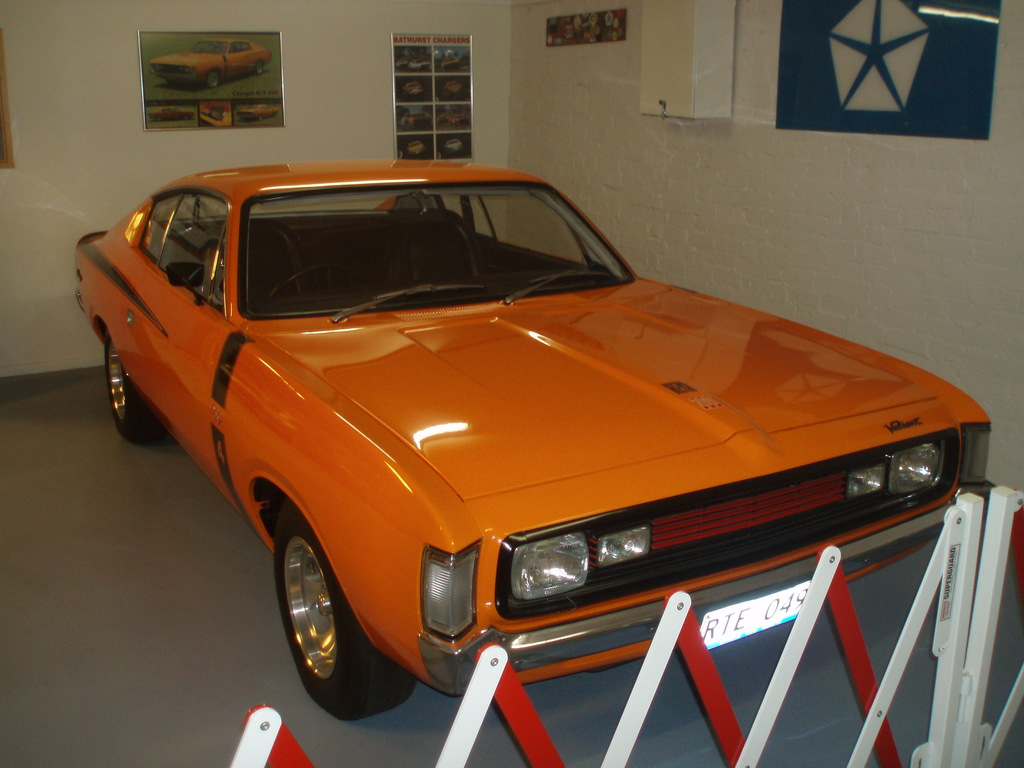Car: (72, 157, 995, 722), (149, 37, 272, 87), (199, 100, 231, 126), (147, 104, 194, 121), (235, 104, 279, 121), (441, 77, 463, 95), (406, 112, 431, 127), (401, 81, 423, 97), (443, 138, 463, 154), (407, 58, 431, 70), (405, 140, 424, 154), (440, 55, 458, 67), (451, 113, 468, 124), (395, 59, 407, 68), (437, 115, 447, 120)
